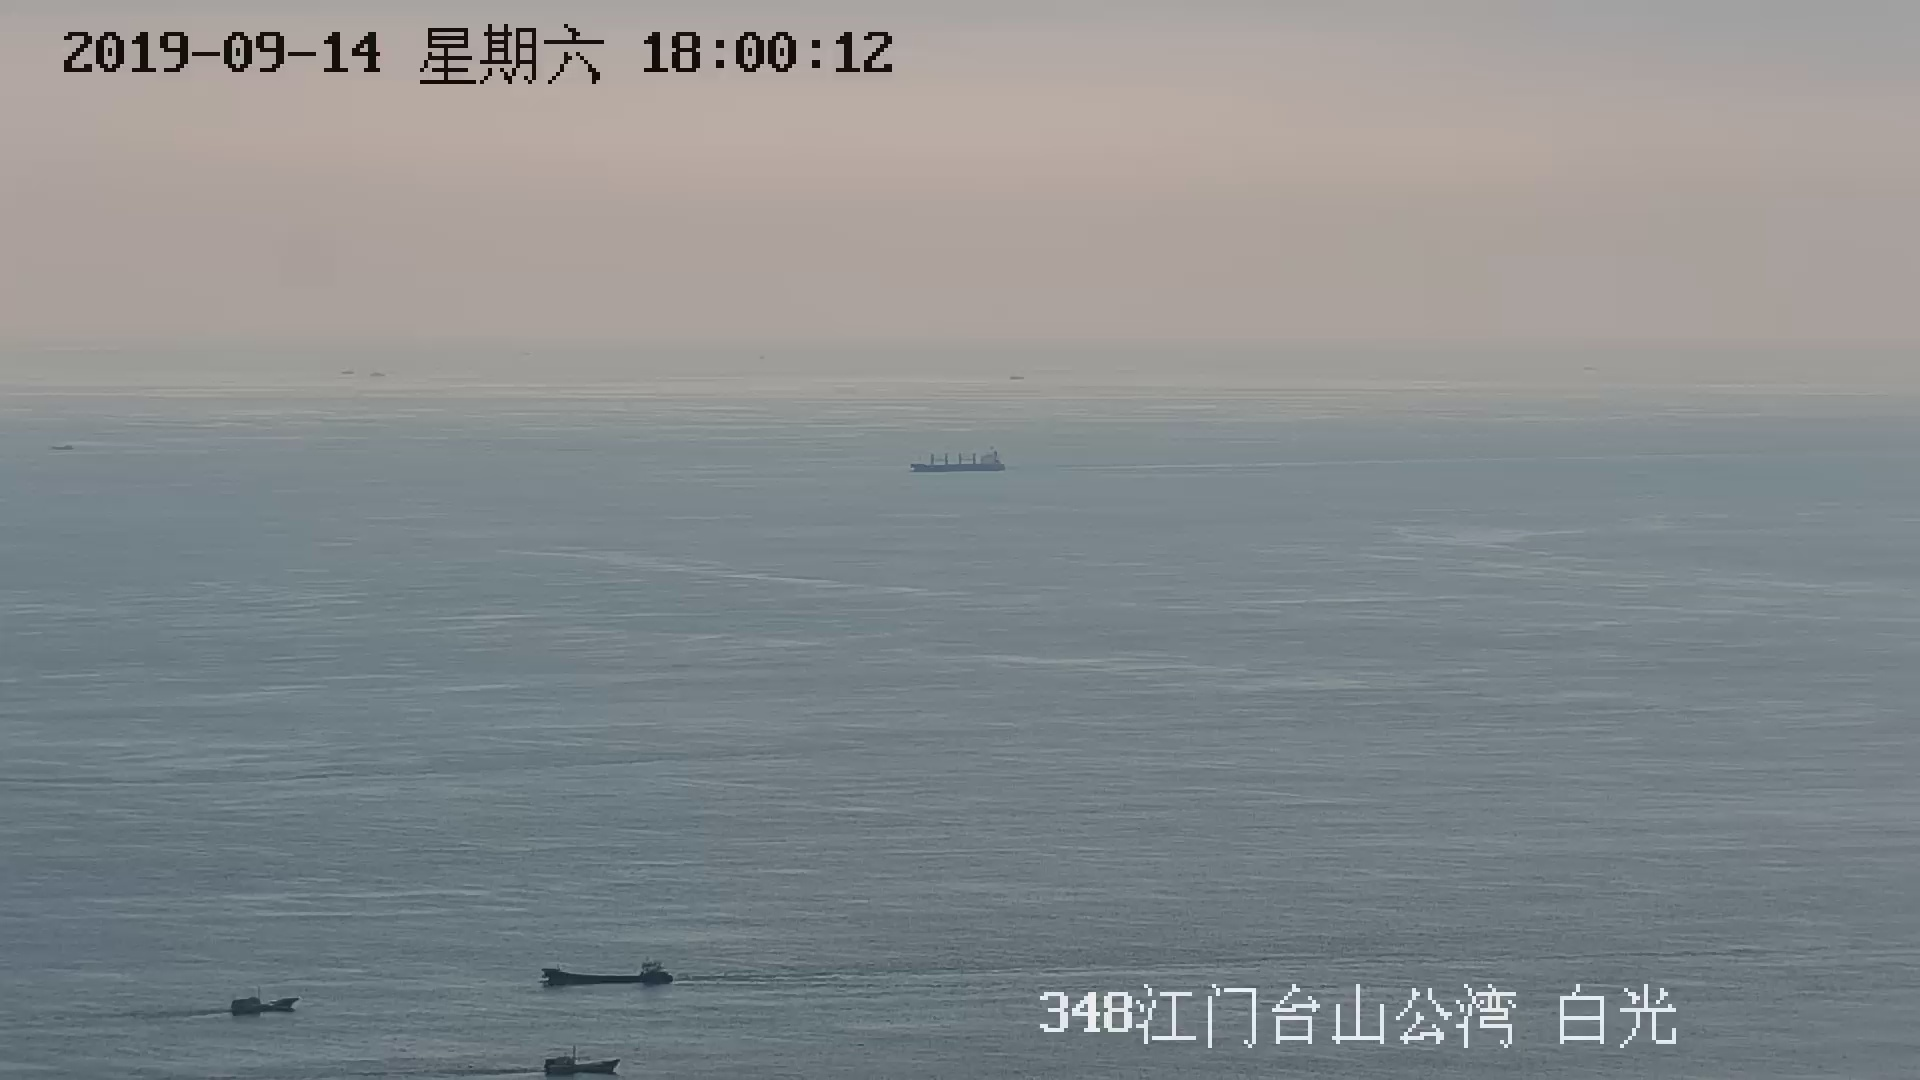ship: (539, 959, 675, 994), (535, 1046, 630, 1080), (909, 448, 1006, 475), (227, 989, 306, 1018)
